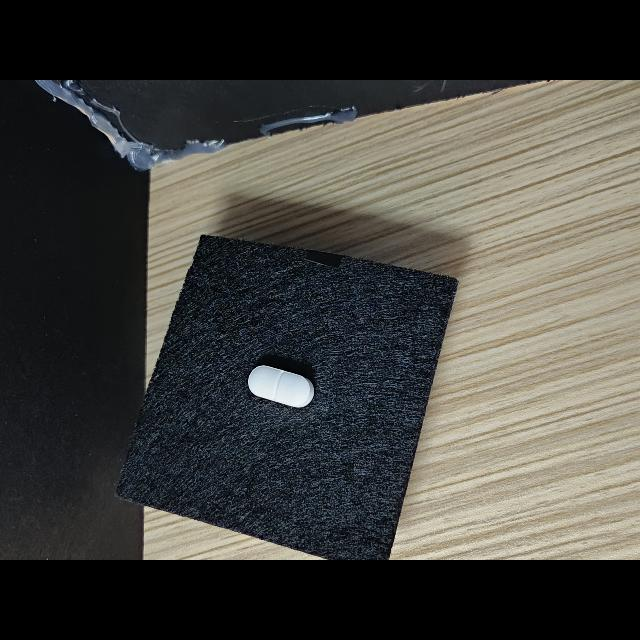Intact Pill: (248, 365, 314, 407)
